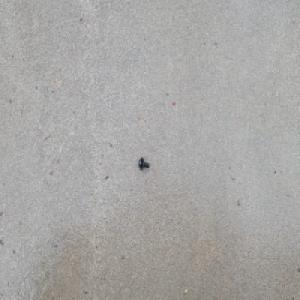BoltWasher: (137, 156, 149, 170)
